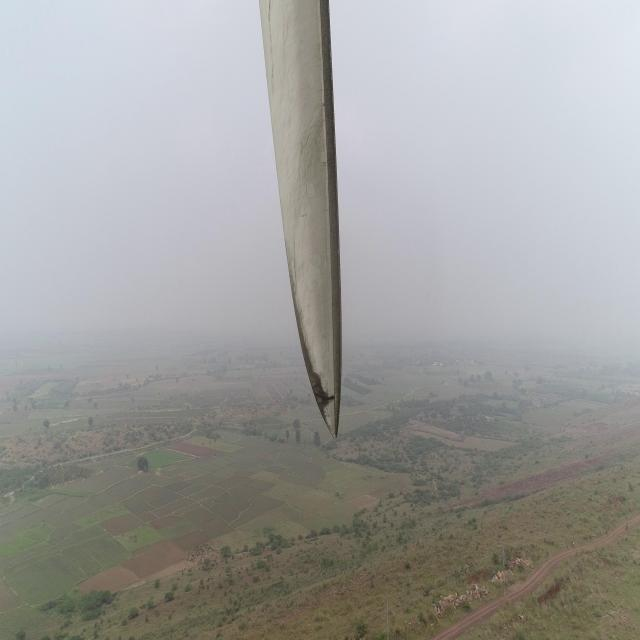Dirt: (261, 0, 346, 430)
Oil LEAKAGE: (286, 252, 340, 435)
Pin Hole: (315, 390, 339, 403)
